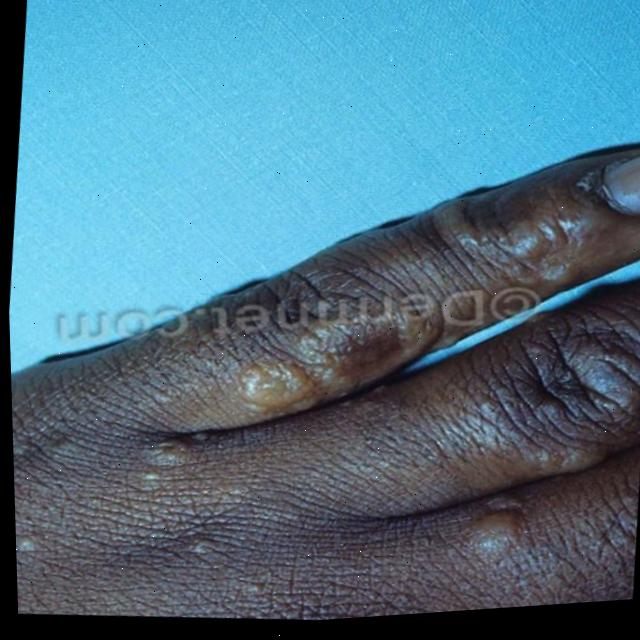Eczema: (139, 188, 579, 627)
